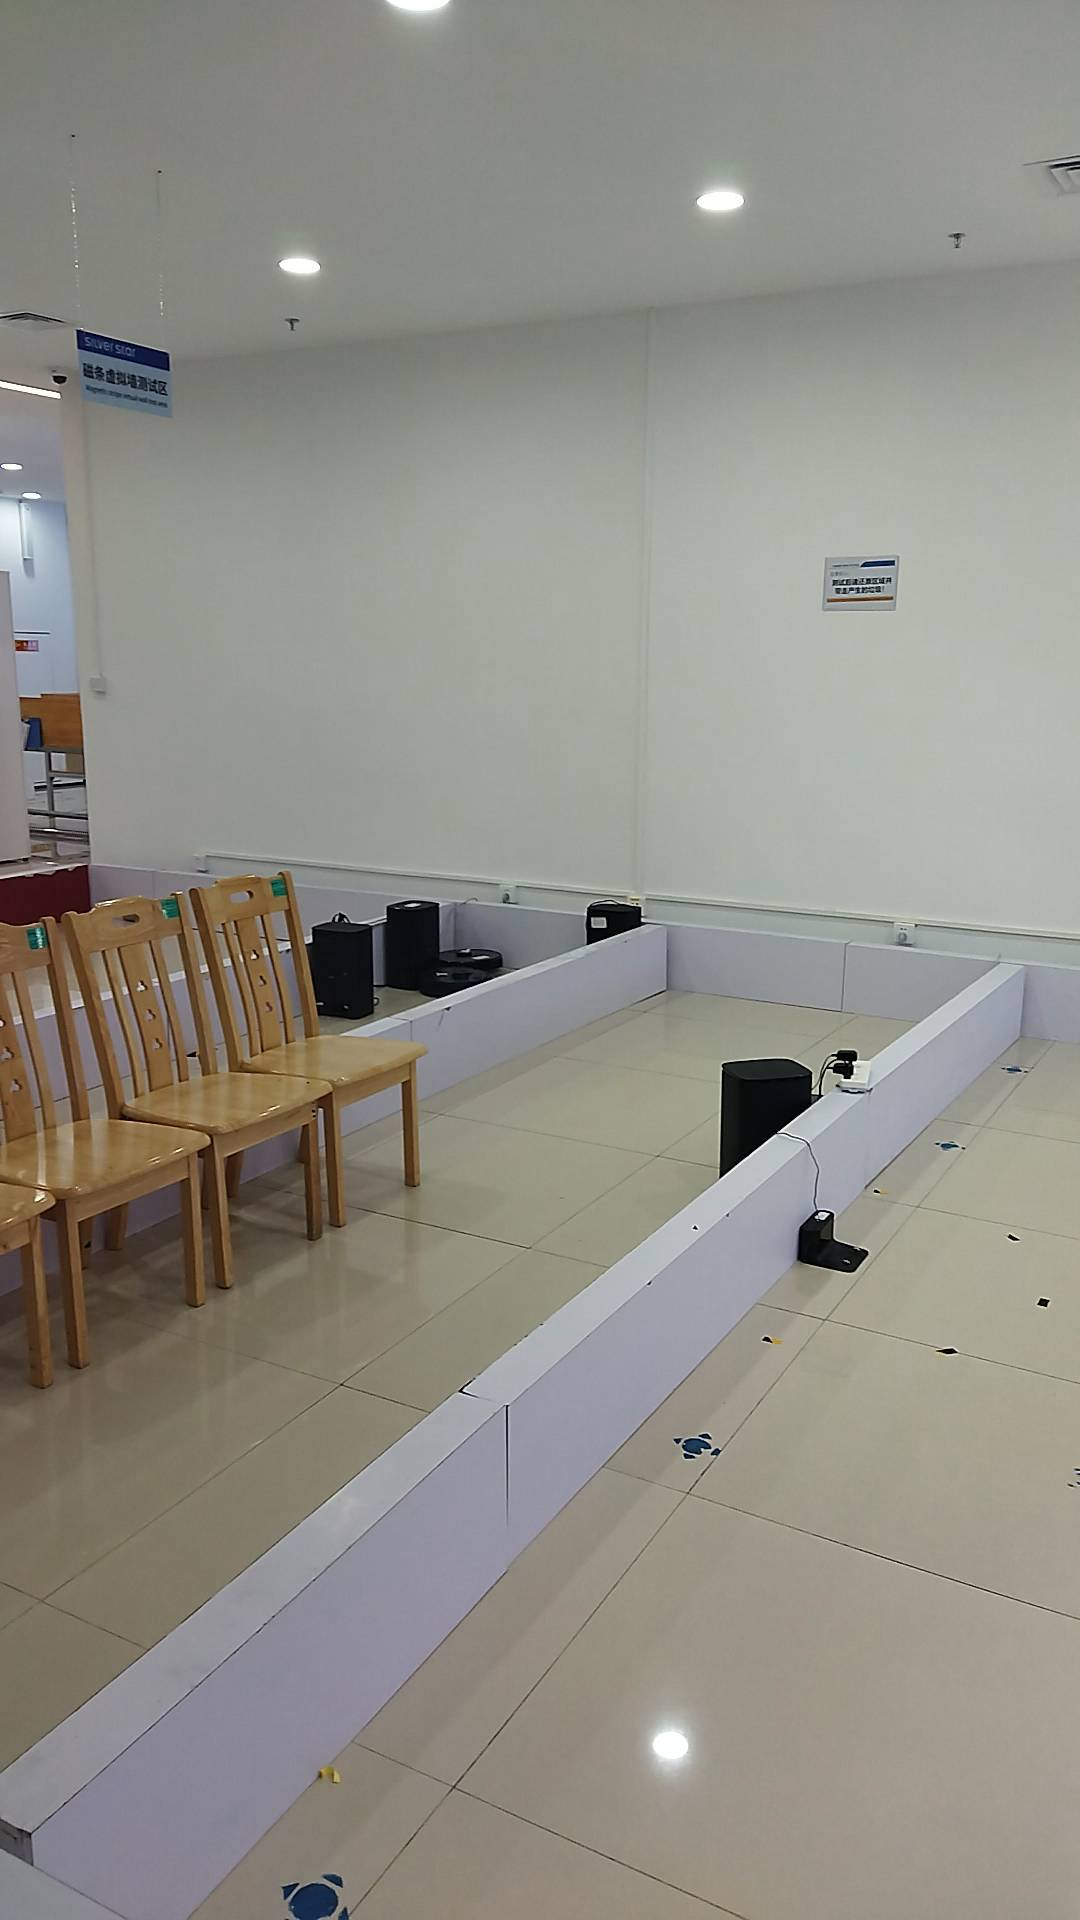dust collecting barrel: (723, 1062, 814, 1179), (309, 922, 375, 1018), (386, 899, 443, 996)
recharge seat: (798, 1211, 872, 1276)
